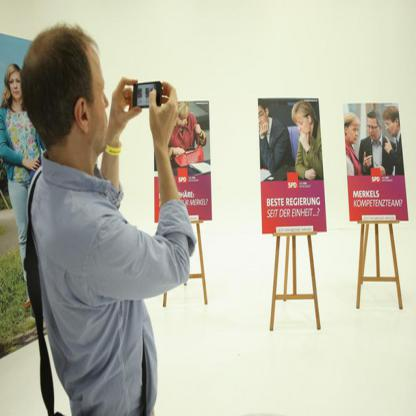face: (76, 57, 109, 150), (254, 109, 268, 132), (9, 76, 23, 99), (348, 122, 360, 143), (367, 122, 380, 141), (297, 119, 310, 135), (384, 119, 396, 136), (178, 114, 188, 128)
